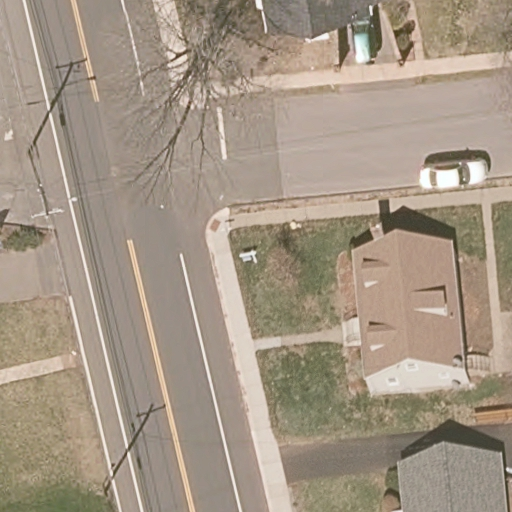DT: (26, 149, 64, 221)
